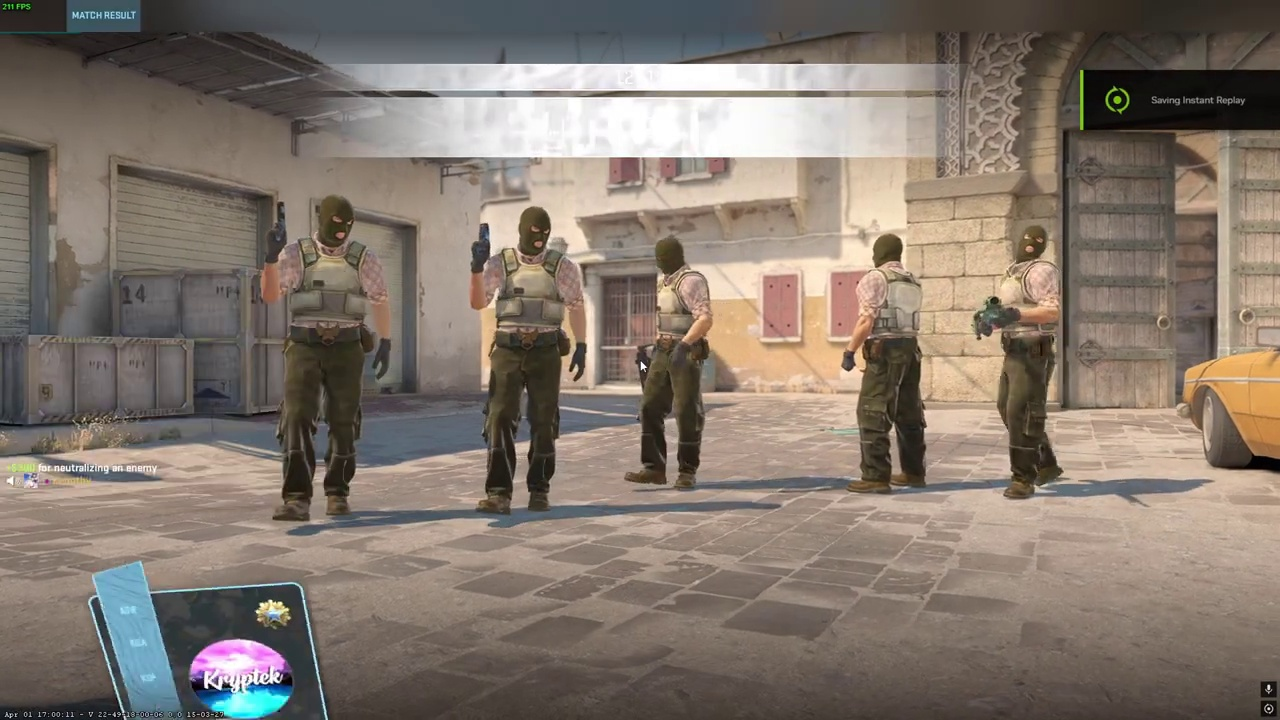Terrorist: (274, 195, 379, 526), (475, 206, 578, 519), (985, 224, 1066, 499), (846, 233, 930, 496), (633, 236, 712, 490)
